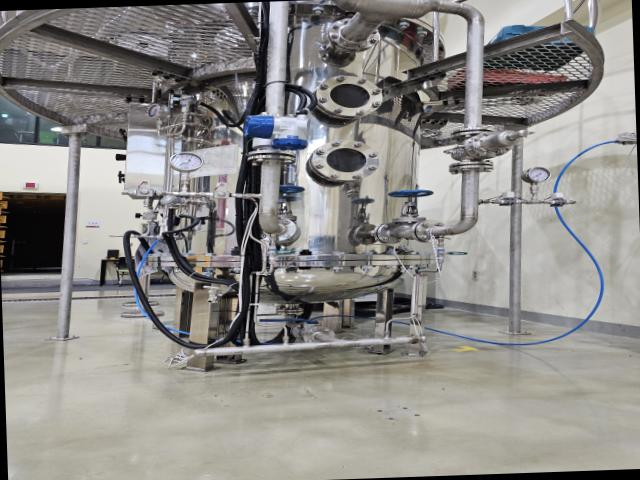Flange: (312, 74, 386, 120), (308, 139, 382, 185)
Flush Ring: (327, 17, 382, 52), (252, 214, 301, 244), (242, 146, 302, 168), (298, 324, 341, 346), (446, 158, 498, 174), (411, 218, 446, 241), (448, 125, 498, 141), (372, 220, 400, 244)
GasRegulator: (146, 90, 222, 147)
Nuts: (128, 186, 162, 201), (208, 188, 238, 202), (542, 196, 572, 210), (495, 195, 524, 209)
Piston Valve: (385, 182, 436, 221), (280, 183, 306, 213)
Pressure Gage: (516, 164, 556, 206), (167, 150, 206, 192)
